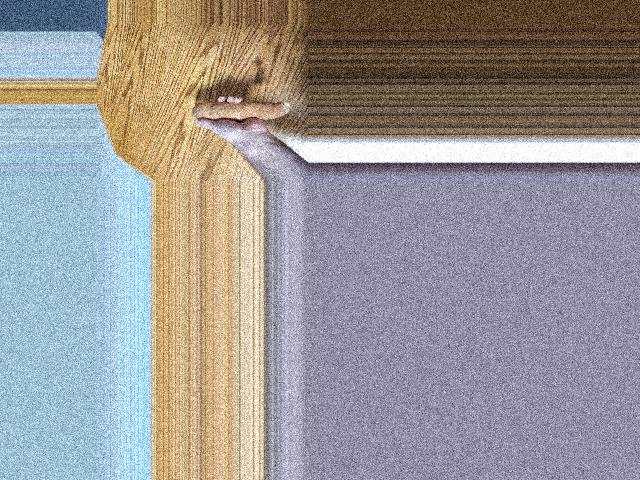sweet_potato: (191, 100, 292, 130)
